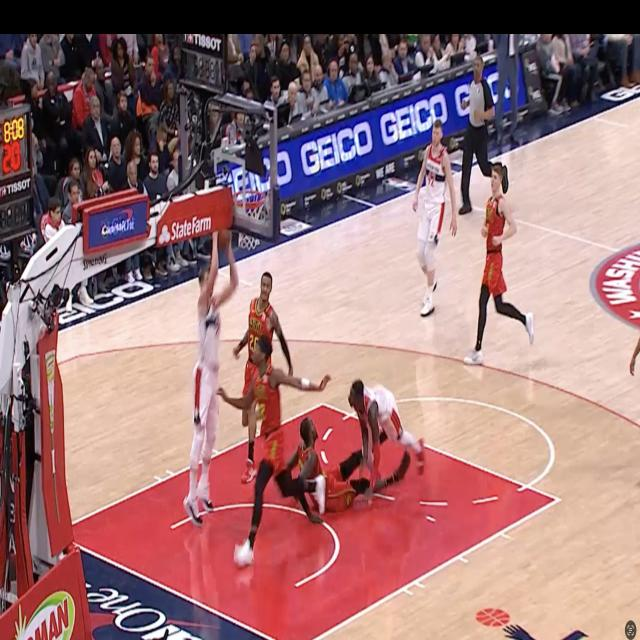foul: (236, 283, 452, 543)
